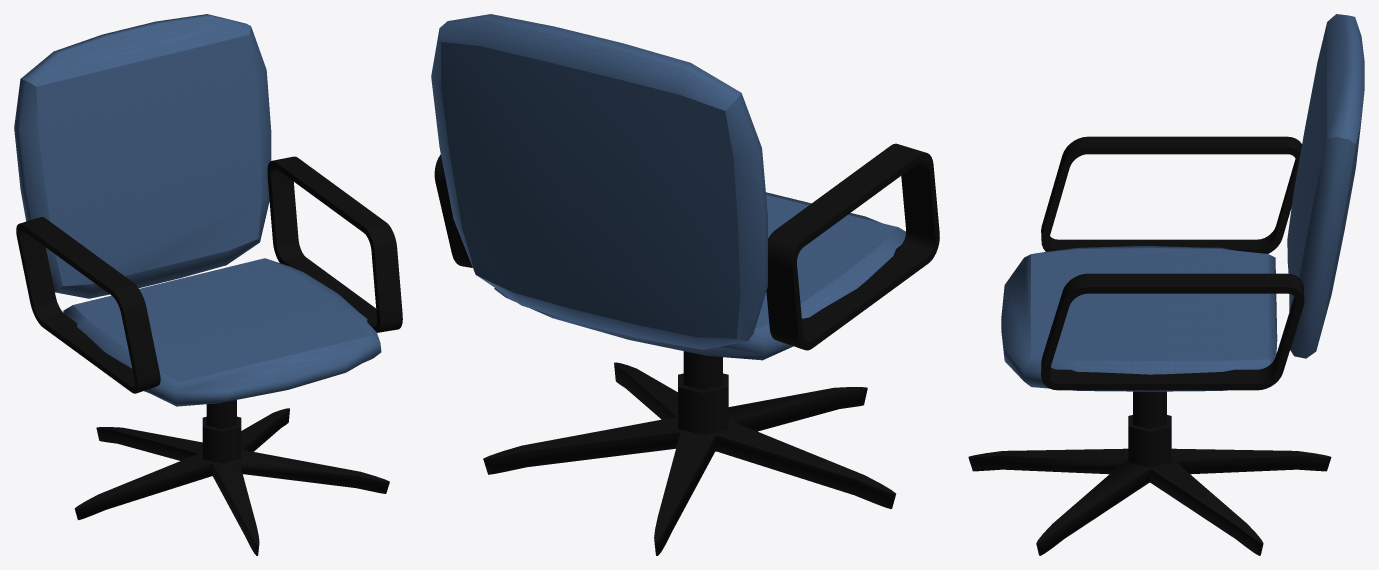
Rendered from Lawyer - Office chair.FBX.
3 renders of one model, left to right at view 1: azimuth 30°, elevation 25°; view 2: azimuth 150°, elevation 25°; view 3: azimuth 270°, elevation 25°, orthographic. The views are drawn at different scales.
Visible parts, largest first — view 1: Back, Seat, Bridge, Rectangle003, Rectangle004, Cylinder001, Cylinder002; view 2: Back, Bridge, Rectangle003, Seat, Cylinder001, Cylinder002, Rectangle004; view 3: Seat, Back, Bridge, Rectangle004, Rectangle003, Cylinder001, Cylinder002.
Part boxes in pixels (x1=…): Back: x1=14, y1=14, x2=271, y2=298; Seat: x1=63, y1=258, x2=381, y2=406; Bridge: x1=74, y1=408, x2=389, y2=555; Rectangle003: x1=16, y1=217, x2=160, y2=393; Rectangle004: x1=267, y1=156, x2=402, y2=332; Cylinder001: x1=202, y1=416, x2=241, y2=463; Cylinder002: x1=206, y1=400, x2=236, y2=429; Back: x1=431, y1=14, x2=767, y2=349; Bridge: x1=483, y1=362, x2=895, y2=555; Rectangle003: x1=766, y1=143, x2=939, y2=350; Seat: x1=494, y1=192, x2=905, y2=360; Cylinder001: x1=678, y1=373, x2=728, y2=434; Cylinder002: x1=683, y1=351, x2=722, y2=389; Rectangle004: x1=434, y1=154, x2=472, y2=267; Seat: x1=1001, y1=246, x2=1277, y2=391; Back: x1=1287, y1=14, x2=1364, y2=358; Bridge: x1=968, y1=448, x2=1331, y2=555; Rectangle004: x1=1041, y1=273, x2=1304, y2=390; Rectangle003: x1=1041, y1=136, x2=1301, y2=253; Cylinder001: x1=1128, y1=415, x2=1171, y2=467; Cylinder002: x1=1133, y1=391, x2=1166, y2=428.
Size of the model in its own units: 47.82 by 63.3 by 51.47.
2 materials, 1 textured.
